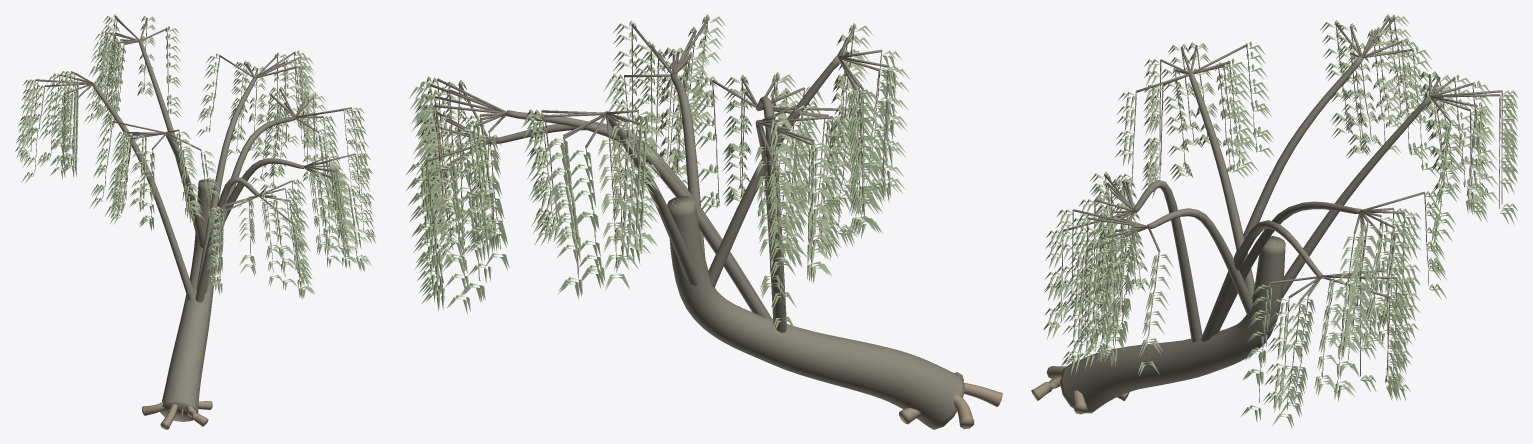
Rendered from grove-willow-6.glb.
The picture shows the model from 3 angles, left to right: view 1: azimuth 30°, elevation 25°; view 2: azimuth 150°, elevation 25°; view 3: azimuth 270°, elevation 25°; orthographic projection. The views are drawn at different scales.
Visible parts, largest first — view 1: grove-willow-6; view 2: grove-willow-6; view 3: grove-willow-6.
Part boxes in pixels (x1,y1,x2,y2): grove-willow-6: (15, 14, 376, 429); grove-willow-6: (406, 14, 1002, 429); grove-willow-6: (1031, 14, 1518, 428).
Size of the model in its own units: 7.48 by 6.51 by 7.56.
